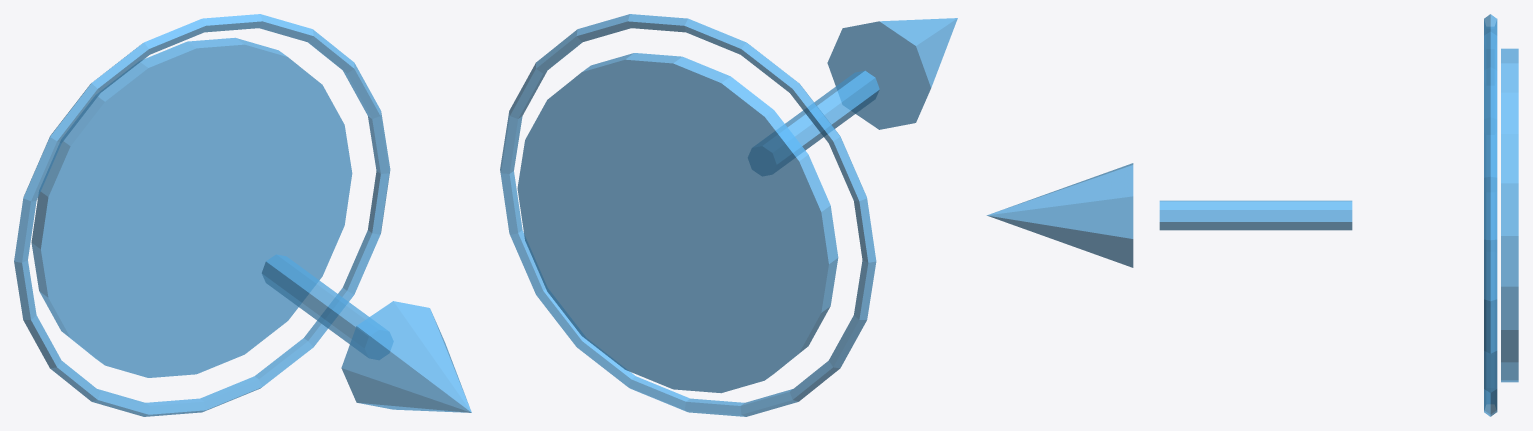
The model's file is 06_spawn_point_marker.glb.
3 renders of one model, left to right at view 1: azimuth 30°, elevation 25°; view 2: azimuth 150°, elevation 25°; view 3: azimuth 270°, elevation 25°, orthographic. The views are drawn at different scales.
Visible parts, largest first — view 1: base_disc, base_ring, arrow_head, arrow_stem; view 2: base_disc, base_ring, arrow_head, arrow_stem; view 3: arrow_head, base_disc, arrow_stem, base_ring.
Boxes of the visible parts, x1,y1,x2,y2 form: base_disc: (31,37,352,377); base_ring: (14,14,390,416); arrow_head: (341,301,471,412); arrow_stem: (261,254,392,359); base_disc: (517,53,838,393); base_ring: (500,14,876,416); arrow_head: (827,18,957,129); arrow_stem: (748,70,879,175); arrow_head: (986,163,1133,267); base_disc: (1501,48,1518,382); arrow_stem: (1159,200,1352,230); base_ring: (1484,14,1497,416).
Bounding box in the file's own units: 1.16 × 1.16 × 1.52.
